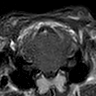Brain: (25, 28, 71, 73)
